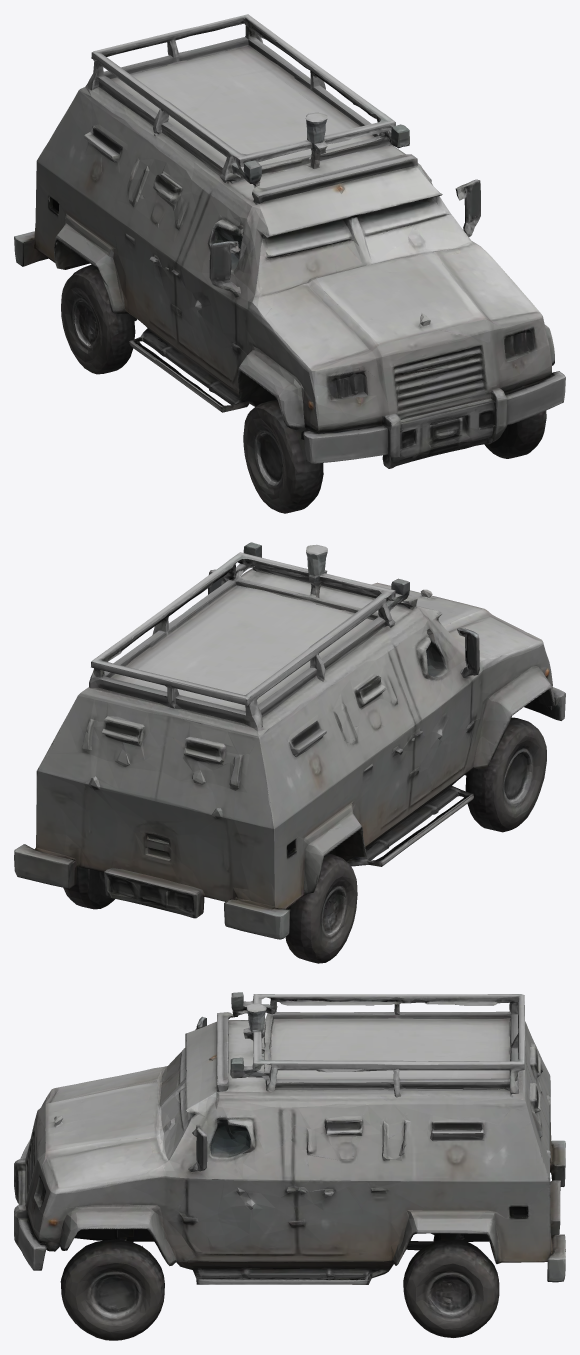
3 renders of one model, top to bottom at view 1: azimuth 30°, elevation 25°; view 2: azimuth 150°, elevation 25°; view 3: azimuth 270°, elevation 25°, orthographic. The views are drawn at different scales.
Parts seen in each view (by area): view 1: geometry_0; view 2: geometry_0; view 3: geometry_0.
Boxes of the visible parts, x1,y1,x2,y2 form: geometry_0: (14, 14, 565, 513); geometry_0: (14, 542, 565, 963); geometry_0: (14, 992, 565, 1340).
Size of the model in its own units: 0.5163 by 0.5547 by 0.9899.
Materials: 1 (1 with a texture image).
